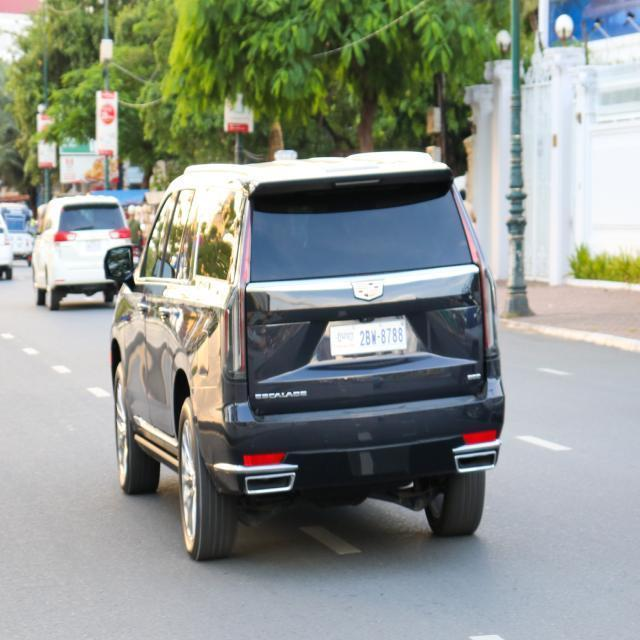Phnom_Penh: (335, 327, 354, 343)
